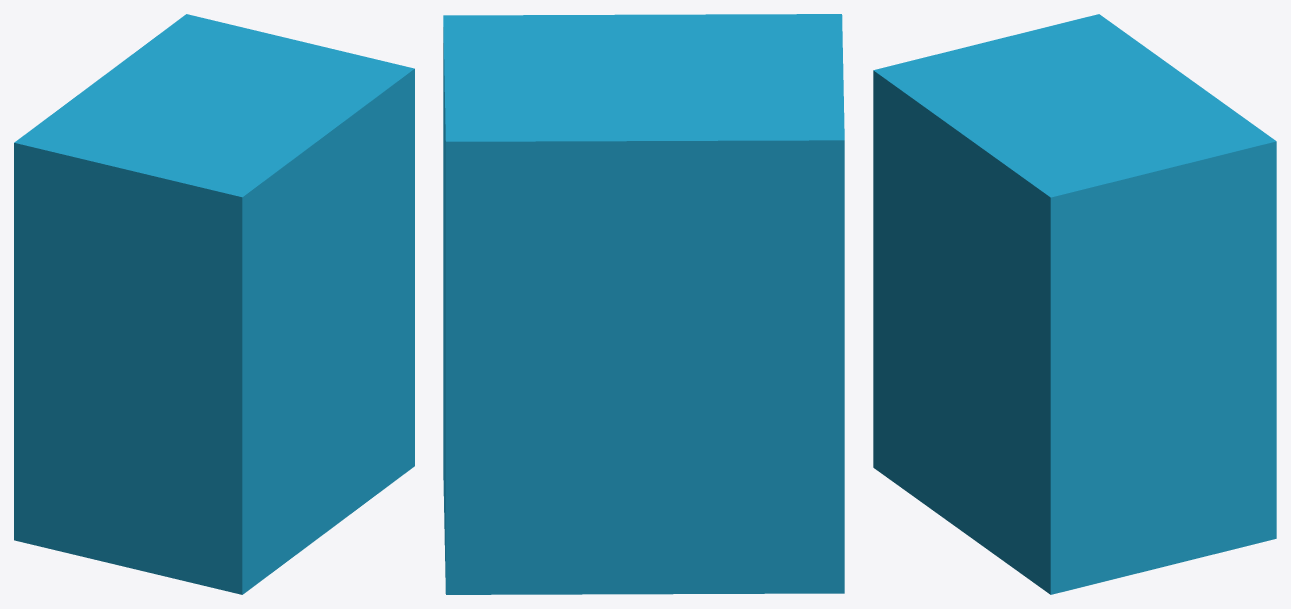
The picture shows the model from 3 angles, left to right: view 1: azimuth 30°, elevation 25°; view 2: azimuth 150°, elevation 25°; view 3: azimuth 270°, elevation 25°; orthographic projection. The views are drawn at different scales.
Visible parts, largest first — view 1: Visual_Cube; view 2: Visual_Cube; view 3: Visual_Cube.
Part boxes in pixels (x1,y1,x2,y2): Visual_Cube: (14, 14, 414, 594); Visual_Cube: (443, 14, 844, 594); Visual_Cube: (873, 14, 1276, 594).
Bounding box in the file's own units: 93.92 × 94.78 × 87.21.
